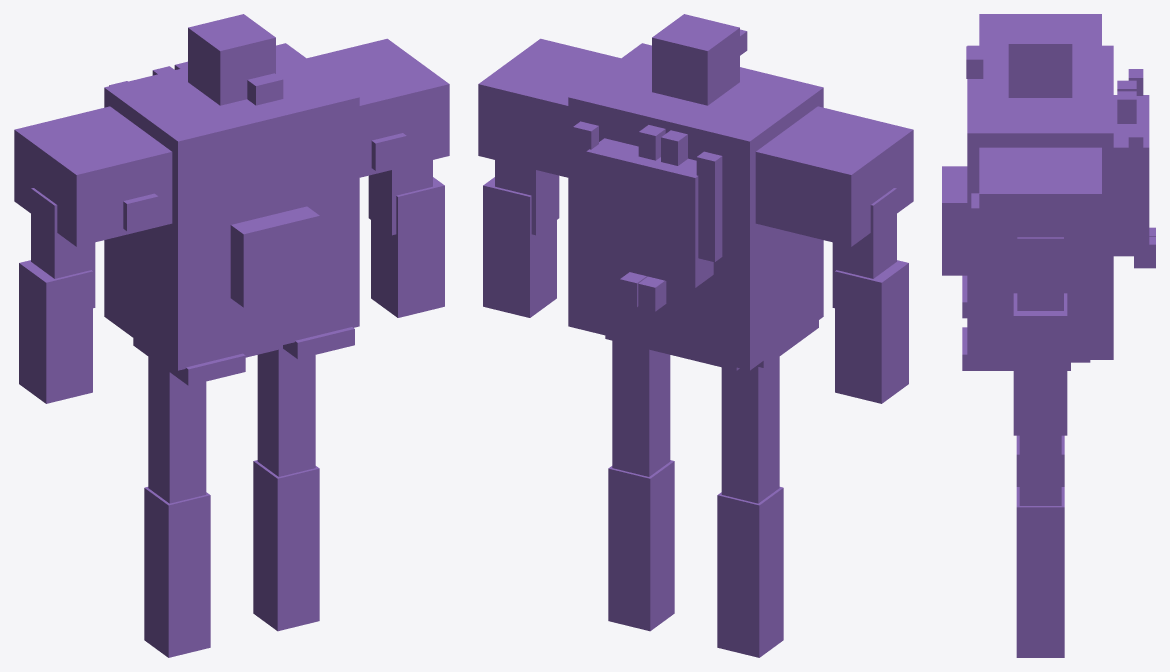
File: mechfall_ikaruga.obj
3 views of the same model, side by side, from view 1: azimuth 30°, elevation 25°; view 2: azimuth 150°, elevation 25°; view 3: azimuth 270°, elevation 25° (orthographic).
Parts seen in each view (by area): view 1: mechfall_ikaruga; view 2: mechfall_ikaruga; view 3: mechfall_ikaruga.
Boxes of the visible parts, x1,y1,x2,y2 form: mechfall_ikaruga: (14,14,449,657); mechfall_ikaruga: (478,14,913,657); mechfall_ikaruga: (942,14,1155,657).
Bounding box in the file's own units: 6.1 × 8.74 × 2.87.
